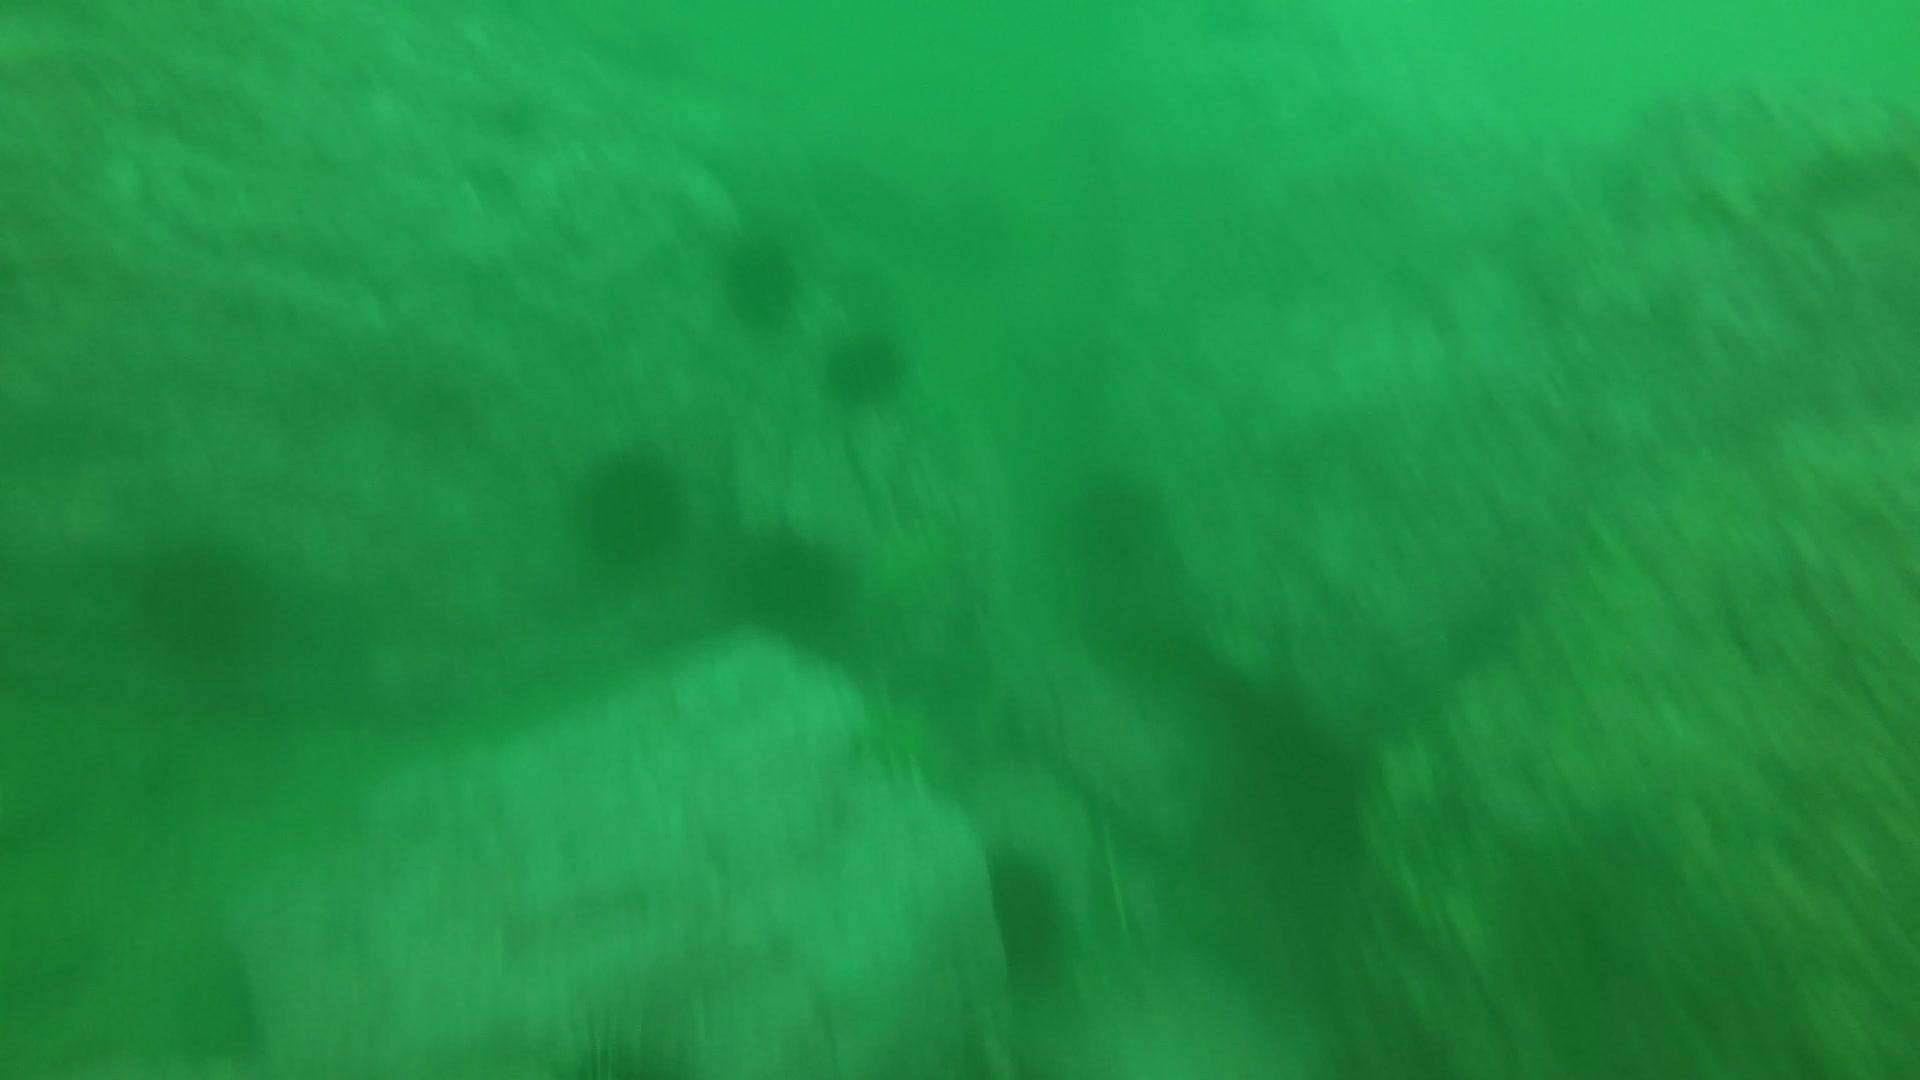echinus: (127, 529, 274, 669), (720, 516, 861, 647), (568, 438, 692, 578), (975, 843, 1076, 989), (533, 1015, 711, 1080), (709, 218, 808, 334), (1062, 462, 1172, 564), (815, 319, 915, 411)
